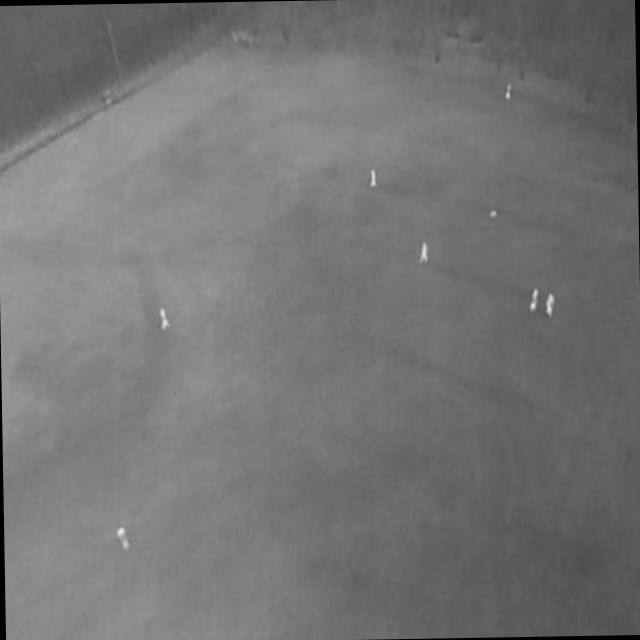person: (115, 528, 132, 554), (528, 288, 540, 313), (159, 308, 170, 332), (418, 242, 429, 265), (547, 295, 555, 320), (505, 82, 513, 103), (370, 170, 378, 188)
